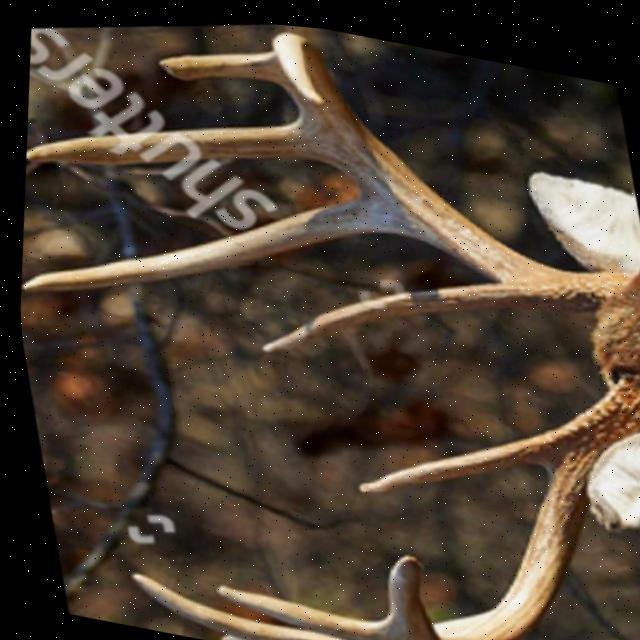L-F: (280, 32, 630, 302)
L-G1: (252, 271, 528, 350)
L-G2: (17, 186, 412, 291)
L-G3: (23, 112, 317, 164)
L-G4: (155, 44, 281, 80)
R-G1: (346, 412, 558, 490)
R-G2: (373, 544, 439, 640)
R-G3: (200, 577, 375, 640)
R-G4: (114, 568, 358, 640)
